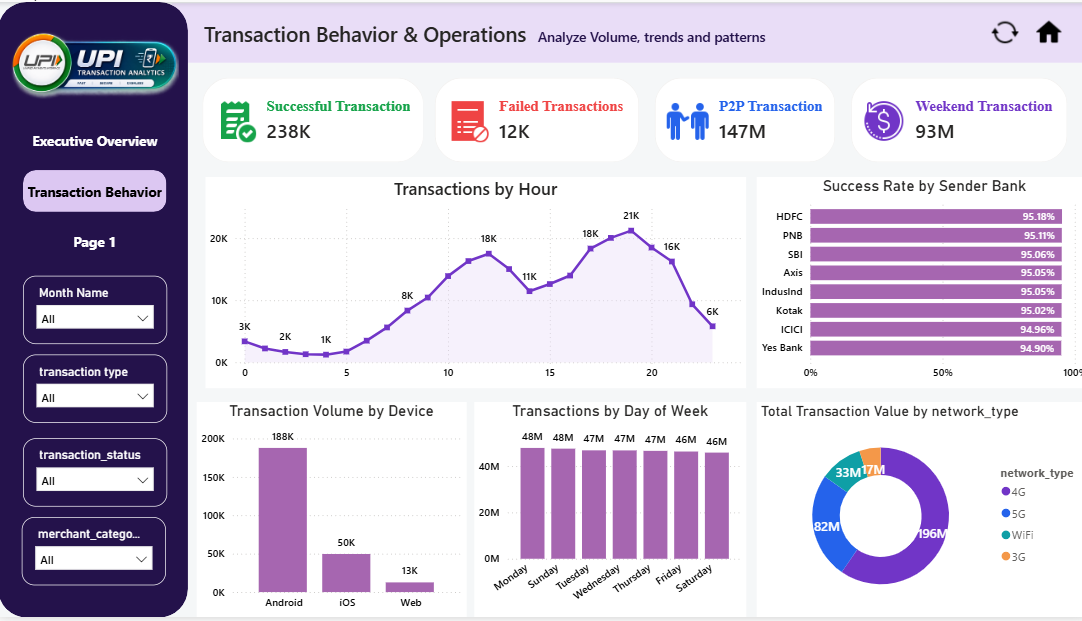

The page's visual inventory and layout, read from the dashboard file:
{"tool":"powerbi","page":{"name":"Transaction Behavior","canvas":[1280,720],"ordinal":1},"visuals":[{"type":"image","box":[9.6,1,201.9,146.3],"z":0,"group":"g1"},{"type":"textbox","box":[203.1,1.4,1077.2,70],"z":0},{"type":"actionButton","box":[1210.3,13.7,40,45],"z":1000},{"type":"pageNavigator","box":[28.6,137.8,168.8,167.4],"z":1000,"group":"g1"},{"type":"actionButton","box":[1158.2,13.7,40,45],"z":2000},{"type":"slicer","fields":{"Values":["upi_transactions_2024.Month Name"]},"box":[28.6,320.3,168.6,79.6],"z":2000,"group":"g1"},{"type":"shape","box":[0,0,222.3,720.4],"z":3000},{"type":"slicer","fields":{"Values":["upi_transactions_2024.transaction type"]},"box":[28.6,412.2,168.6,79.6],"z":3000,"group":"g1"},{"type":"group","id":"g1","title":"Group 1","box":[9.6,1,201.9,681.6],"z":4000},{"type":"slicer","fields":{"Values":["upi_transactions_2024.transaction_status"]},"box":[28.6,509.7,168.6,79.6],"z":4000,"group":"g1"},{"type":"cardVisual","fields":{"Data":["upi_transactions_2024.Success"]},"box":[222.4,71.3,293.6,134],"z":5000},{"type":"slicer","fields":{"Values":["upi_transactions_2024.merchant_category"]},"box":[27.3,603,168.6,79.6],"z":5000,"group":"g1"},{"type":"cardVisual","fields":{"Data":["upi_transactions_2024.Failed Transactions"]},"box":[494.6,71.3,273.7,134],"z":6000},{"type":"cardVisual","fields":{"Data":["upi_transactions_2024.P2P Transaction"]},"box":[752.6,71.3,245.2,134],"z":7000},{"type":"cardVisual","fields":{"Data":["upi_transactions_2024.Weekend Transaction"]},"box":[981.1,71.4,287.9,133],"z":8000},{"type":"columnChart","title":"Transactions by Day of Week","fields":{"Y":["upi_transactions_2024.Total Transacation Value"],"Category":["upi_transactions_2024.day_of_week"]},"box":[557.1,467.9,318.4,252.5],"z":9000},{"type":"columnChart","title":"Transaction Volume by Device","fields":{"Category":["upi_transactions_2024.device_type"],"Y":["upi_transactions_2024.Total Transactions"]},"box":[233.3,467.9,315.6,252.5],"z":10000},{"type":"donutChart","title":"Transaction Volume by Network Type","fields":{"Category":["upi_transactions_2024.network_type"],"Y":["upi_transactions_2024.Total Transaction Value"]},"box":[887.8,467.9,392.5,252.5],"z":11000},{"type":"lineChart","title":"Transactions by Hour","fields":{"Category":["upi_transactions_2024.hour_of_day"],"Y":["upi_transactions_2024.Total Transactions"]},"box":[242.9,204.5,632.6,247],"z":12000},{"type":"barChart","title":"Success Rate by Sender Bank","fields":{"Y":["upi_transactions_2024.Success Rate"],"Category":["upi_transactions_2024.sender_bank"]},"box":[887.5,204.5,392.5,247],"z":13000}]}

Visuals, with their boxes in screenshot pixels (x1, y1, x2, y2), scaled from the page's 1280x720 canvas onto the 1082x621 screenshot:
image: (left=8, top=1, right=179, bottom=127)
textbox: (left=172, top=1, right=1081, bottom=62)
actionButton: (left=1023, top=12, right=1057, bottom=51)
pageNavigator: (left=24, top=119, right=167, bottom=263)
actionButton: (left=979, top=12, right=1013, bottom=51)
slicer - upi_transactions_2024.Month Name: (left=24, top=276, right=167, bottom=345)
shape: (left=0, top=0, right=188, bottom=620)
slicer - upi_transactions_2024.transaction type: (left=24, top=356, right=167, bottom=424)
"Group 1" group: (left=8, top=1, right=179, bottom=589)
slicer - upi_transactions_2024.transaction_status: (left=24, top=440, right=167, bottom=508)
cardVisual - upi_transactions_2024.Success: (left=188, top=61, right=436, bottom=177)
slicer - upi_transactions_2024.merchant_category: (left=23, top=520, right=166, bottom=589)
cardVisual - upi_transactions_2024.Failed Transactions: (left=418, top=61, right=649, bottom=177)
cardVisual - upi_transactions_2024.P2P Transaction: (left=636, top=61, right=843, bottom=177)
cardVisual - upi_transactions_2024.Weekend Transaction: (left=829, top=62, right=1073, bottom=176)
"Transactions by Day of Week" columnChart: (left=471, top=404, right=740, bottom=620)
"Transaction Volume by Device" columnChart: (left=197, top=404, right=464, bottom=620)
"Transaction Volume by Network Type" donutChart: (left=750, top=404, right=1081, bottom=620)
"Transactions by Hour" lineChart: (left=205, top=176, right=740, bottom=389)
"Success Rate by Sender Bank" barChart: (left=750, top=176, right=1081, bottom=389)
